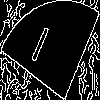I: (25, 24, 52, 72)
